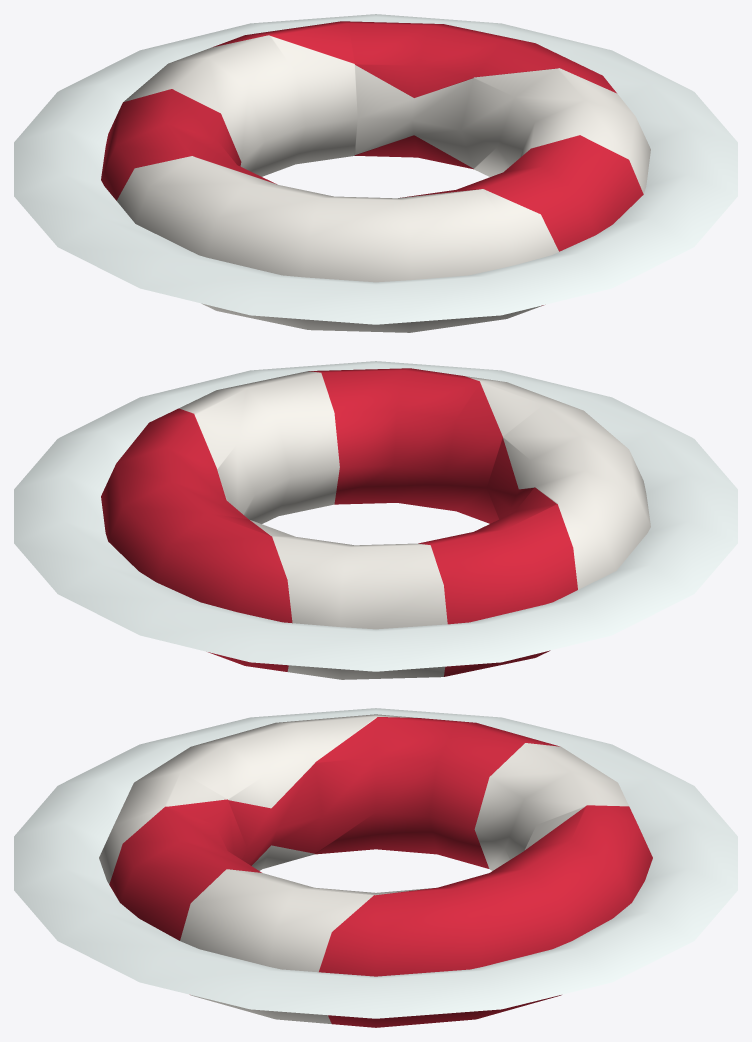
The model's file is W2_LifeRing.fbx.
3 views of the same model, one above another, from view 1: azimuth 30°, elevation 25°; view 2: azimuth 150°, elevation 25°; view 3: azimuth 270°, elevation 25° (orthographic).
Parts seen in each view (by area): view 1: W2_LifeRing; view 2: W2_LifeRing; view 3: W2_LifeRing.
Boxes of the visible parts, x1=… form: W2_LifeRing: x1=14, y1=14, x2=737, y2=332; W2_LifeRing: x1=14, y1=361, x2=737, y2=679; W2_LifeRing: x1=14, y1=708, x2=737, y2=1027.
Size of the model in its own units: 1.74 by 0.34 by 1.71.
